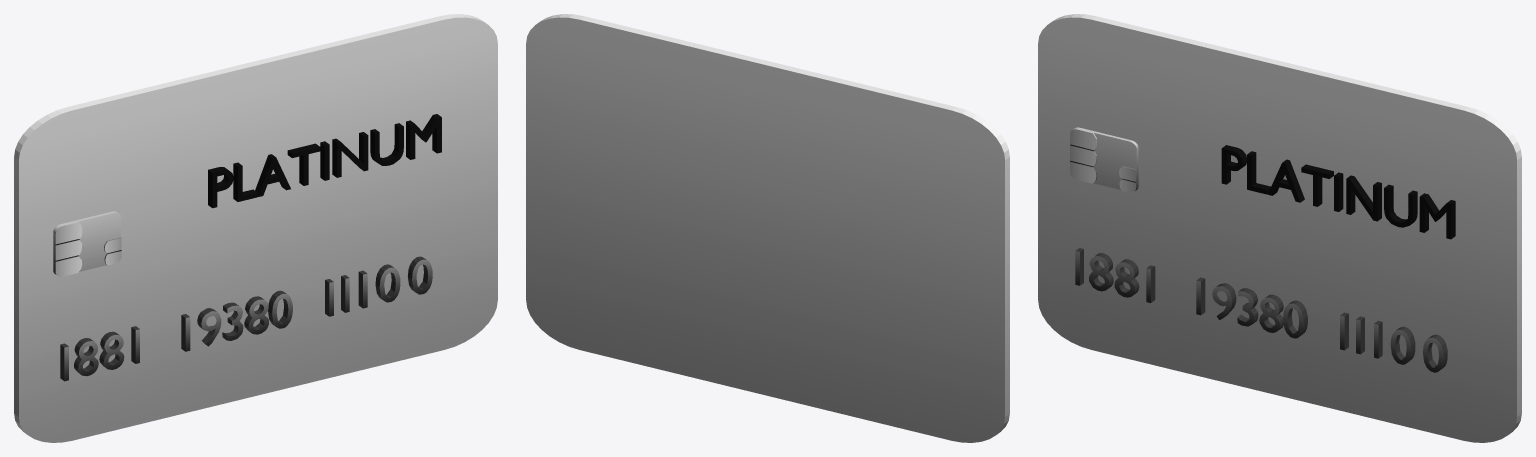
File: platınum.fbx
The picture shows the model from 3 angles, left to right: view 1: azimuth 30°, elevation 25°; view 2: azimuth 150°, elevation 25°; view 3: azimuth 330°, elevation 25°; orthographic projection.
Visible parts, largest first — view 1: platınum; view 2: platınum; view 3: platınum.
Part boxes in pixels (x1,y1,x2,y2): platınum: [14, 14, 497, 442]; platınum: [526, 14, 1009, 442]; platınum: [1038, 14, 1521, 442].
Size of the model in its own units: 130 by 85.51 by 4.59.
